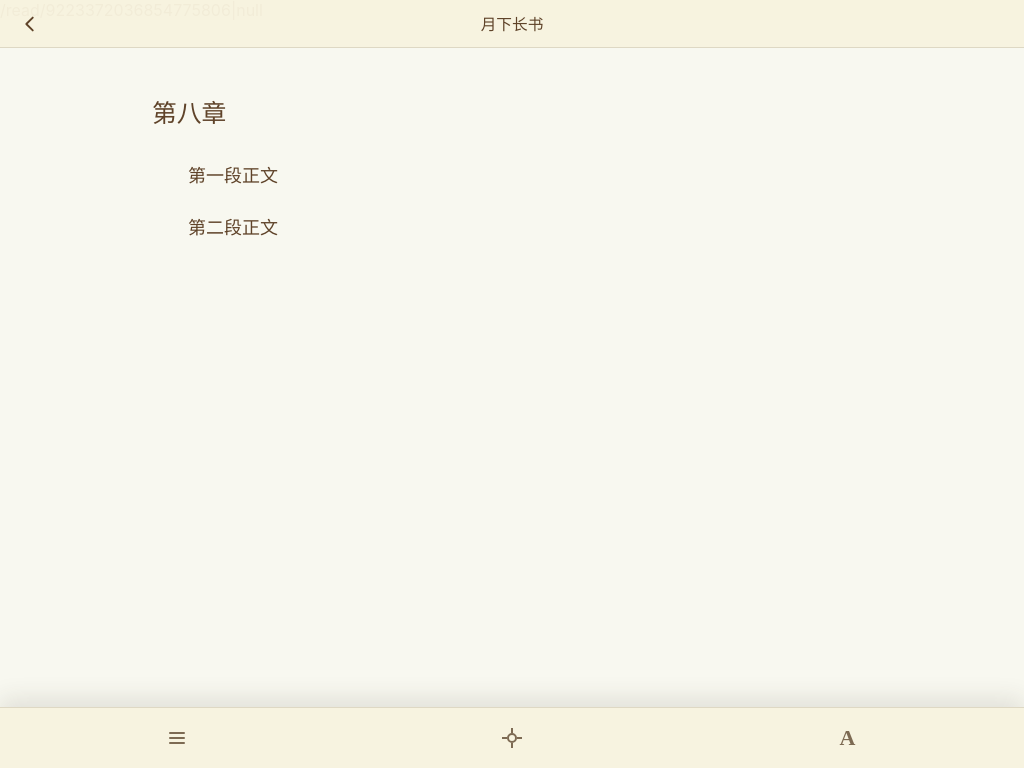
Test: ReaderPage history restoration › opens settings from the dock without detail return and close actions
This screenshot has width=1024, height=768.
Expected: the text "第一段正文" is shown, [188, 165, 278, 186]
Click the button named "设置".
click(847, 738)  # box [683, 716, 1012, 760]
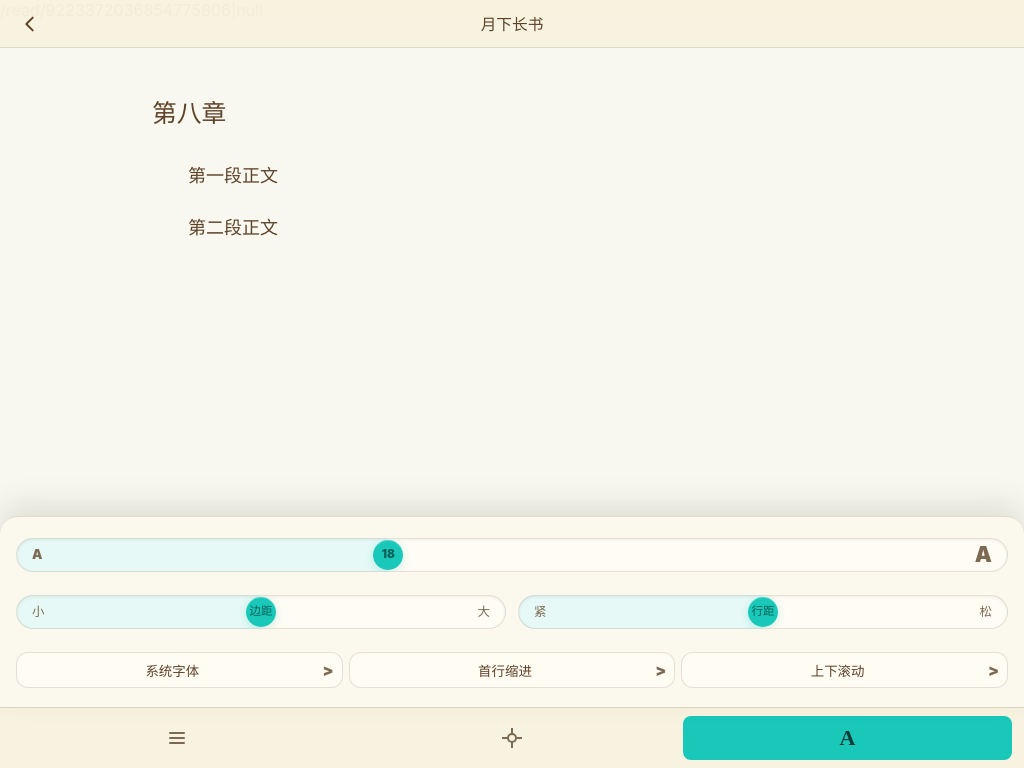
Click the button "上下滚动 >".
click(845, 670)  # box [681, 652, 1008, 688]
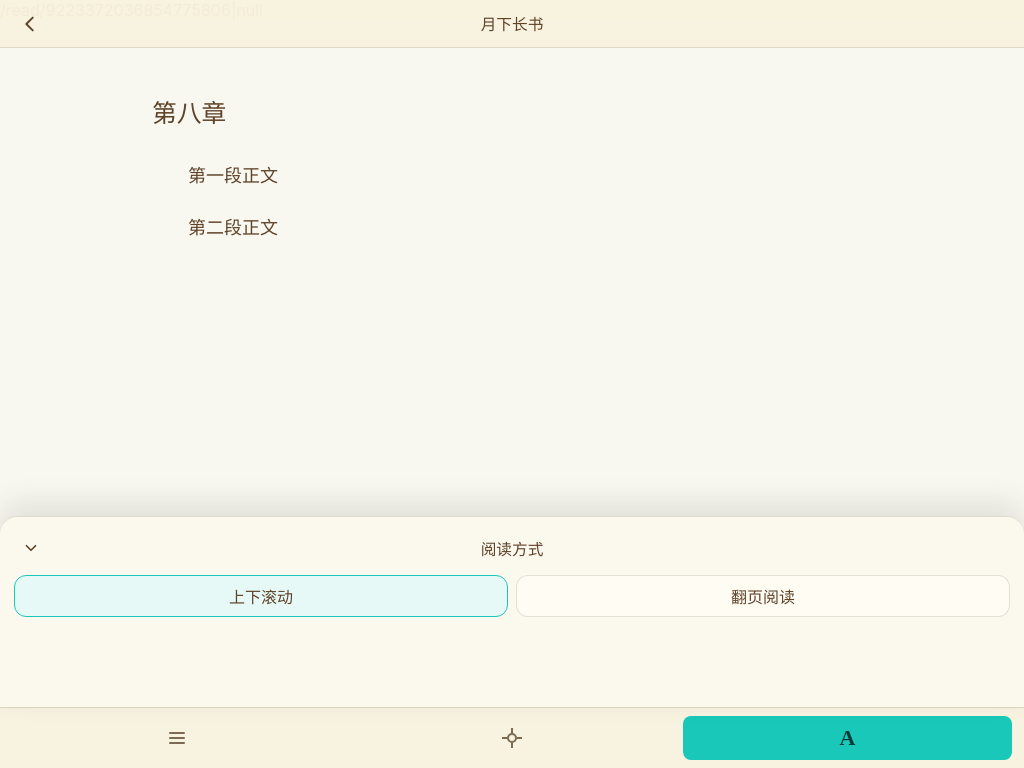
Expected: the button "翻页阅读" is shown, [516, 575, 1010, 617]
